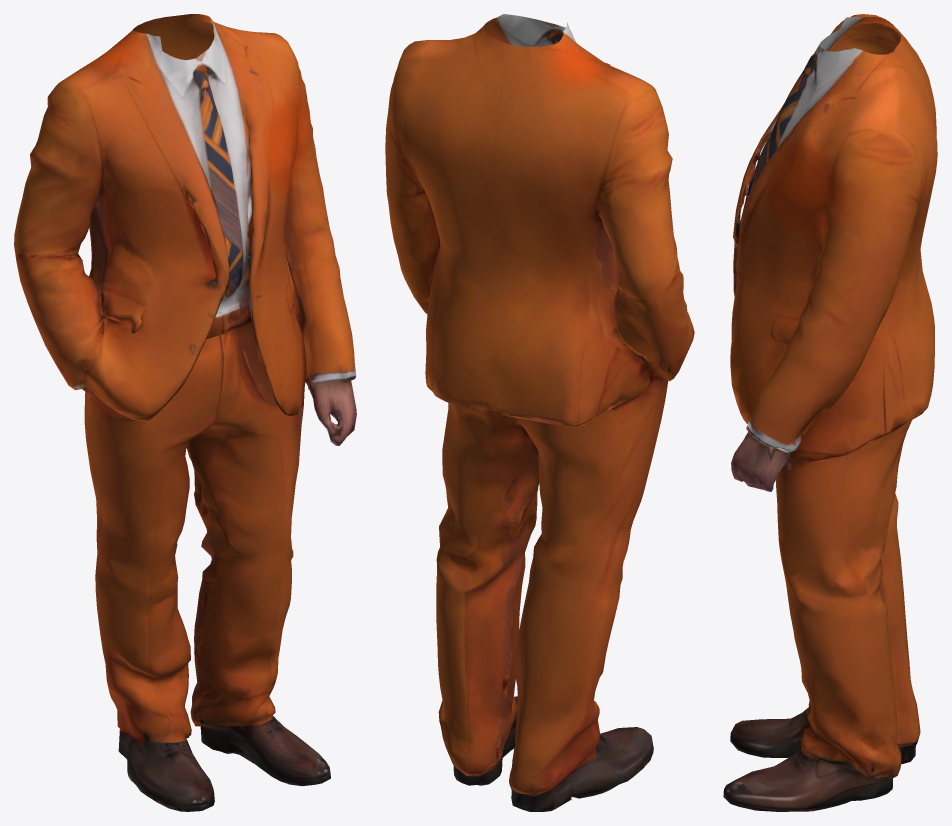
The picture shows the model from 3 angles, left to right: view 1: azimuth 30°, elevation 25°; view 2: azimuth 150°, elevation 25°; view 3: azimuth 270°, elevation 25°; orthographic projection. The views are drawn at different scales.
Parts seen in each view (by area): view 1: Mesh_0; view 2: Mesh_0; view 3: Mesh_0.
Part boxes in pixels (left/top/right/bottom): Mesh_0: left=14, top=14, right=356, bottom=811; Mesh_0: left=385, top=14, right=694, bottom=811; Mesh_0: left=723, top=14, right=937, bottom=811.
Size of the model in its own units: 0.6915 by 1.69 by 0.4469.
1 material, 1 textured.
